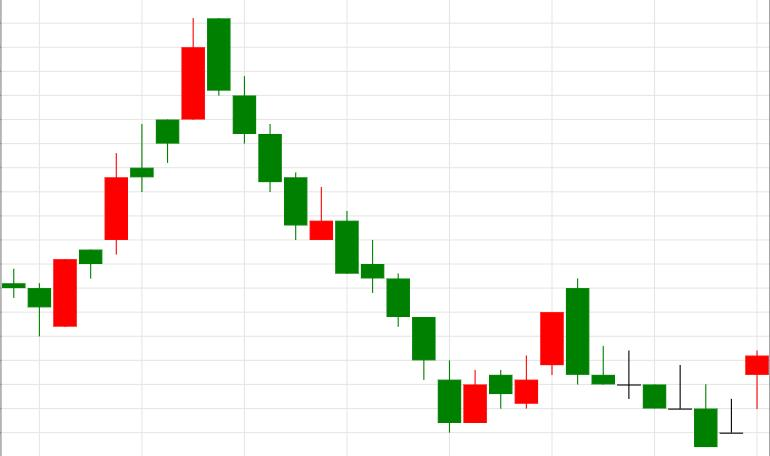bearish_engulfing_fall: (463, 279, 589, 421)
three_black_crows_fall: (54, 18, 282, 328)
